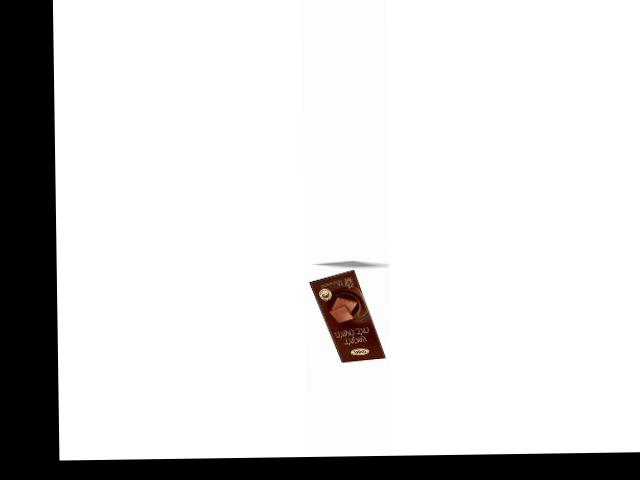chocolate: (306, 265, 386, 364)
